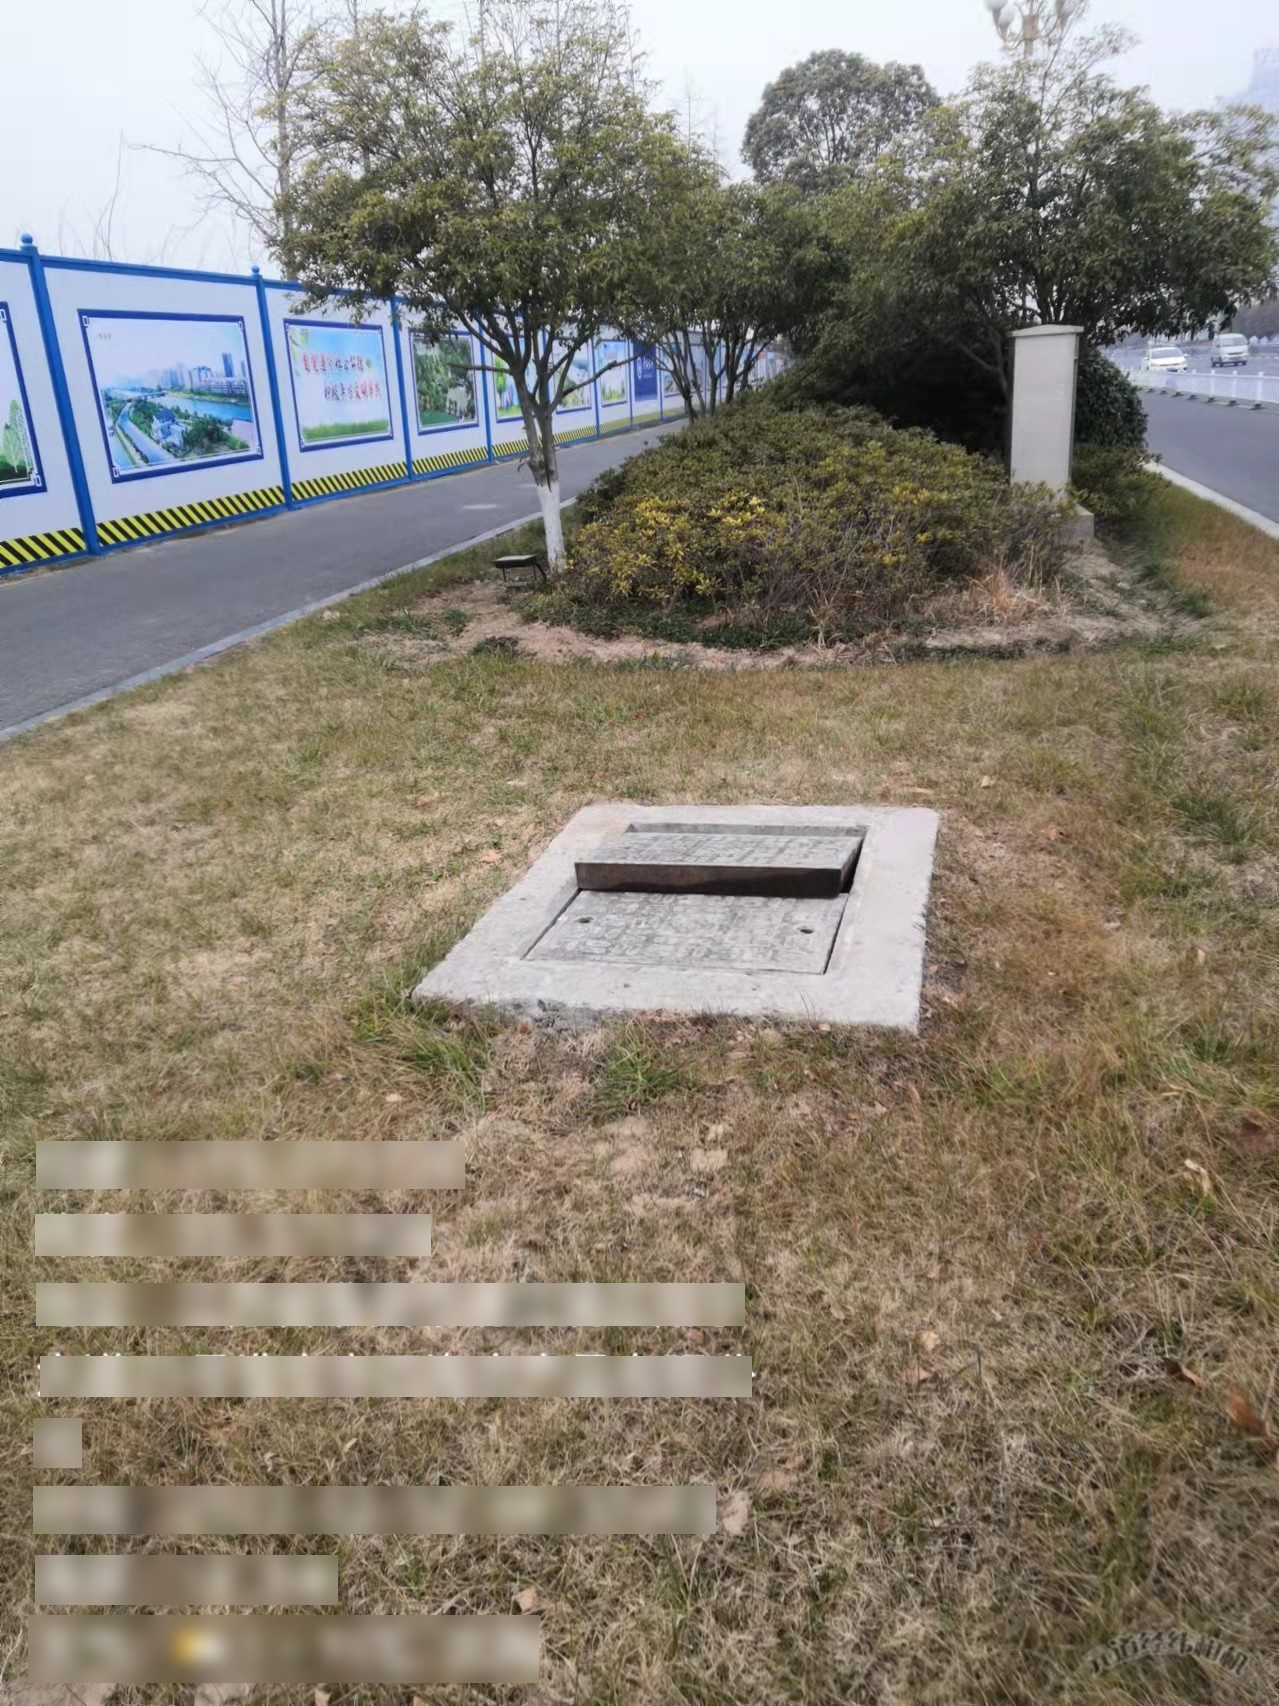uncovered: (504, 815, 873, 995)
